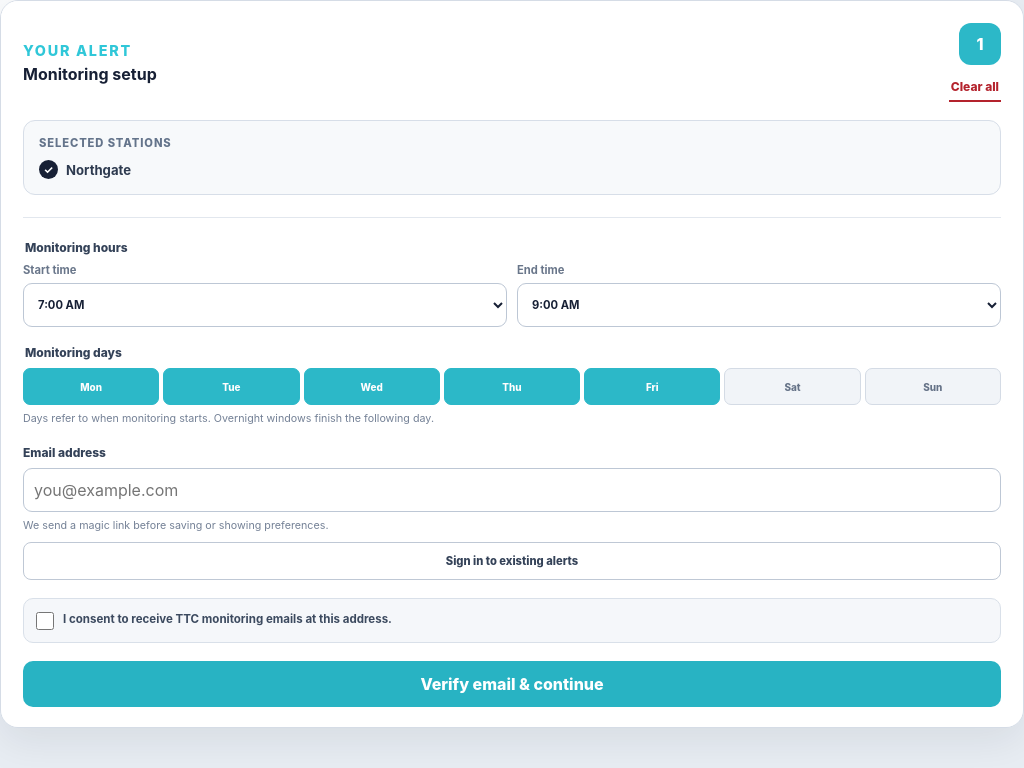
Test: secure monitoring preferences › does not reveal whether an address has an existing subscription
The image size is (1024, 768).
Type "unknown@example.com" into the field labelled "Email address" at x=512, y=490, box [23,468,1001,512]
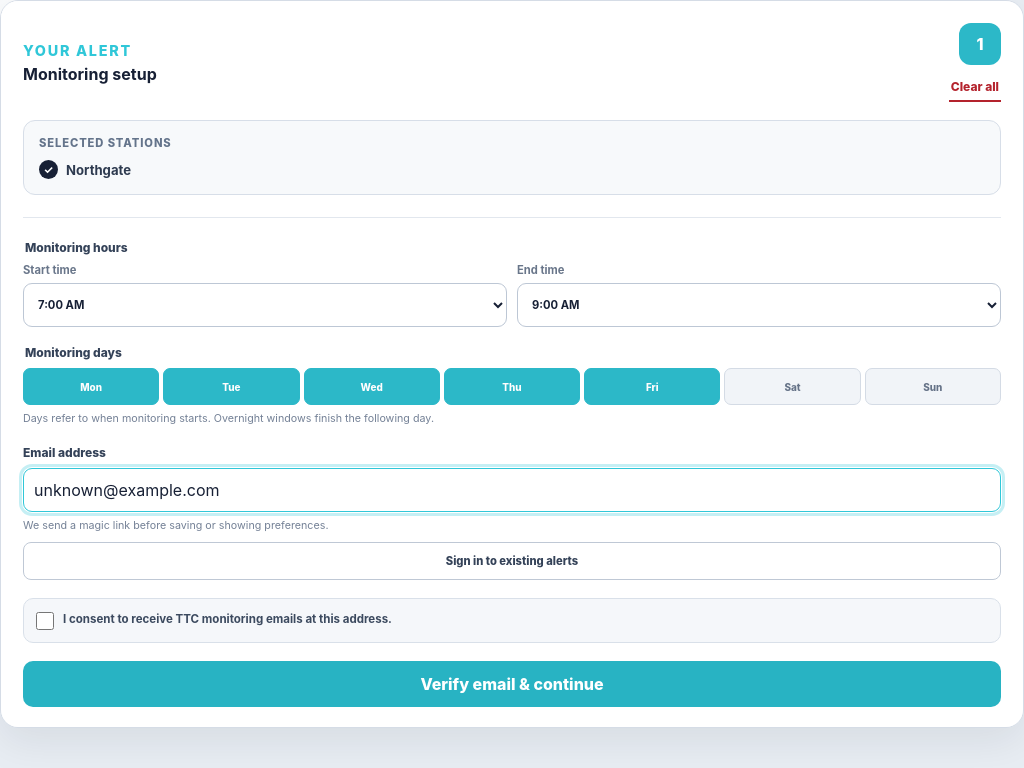
Click the button "Sign in to existing alerts" at x=512, y=561, box [23,542,1001,580]
(page scrolled)
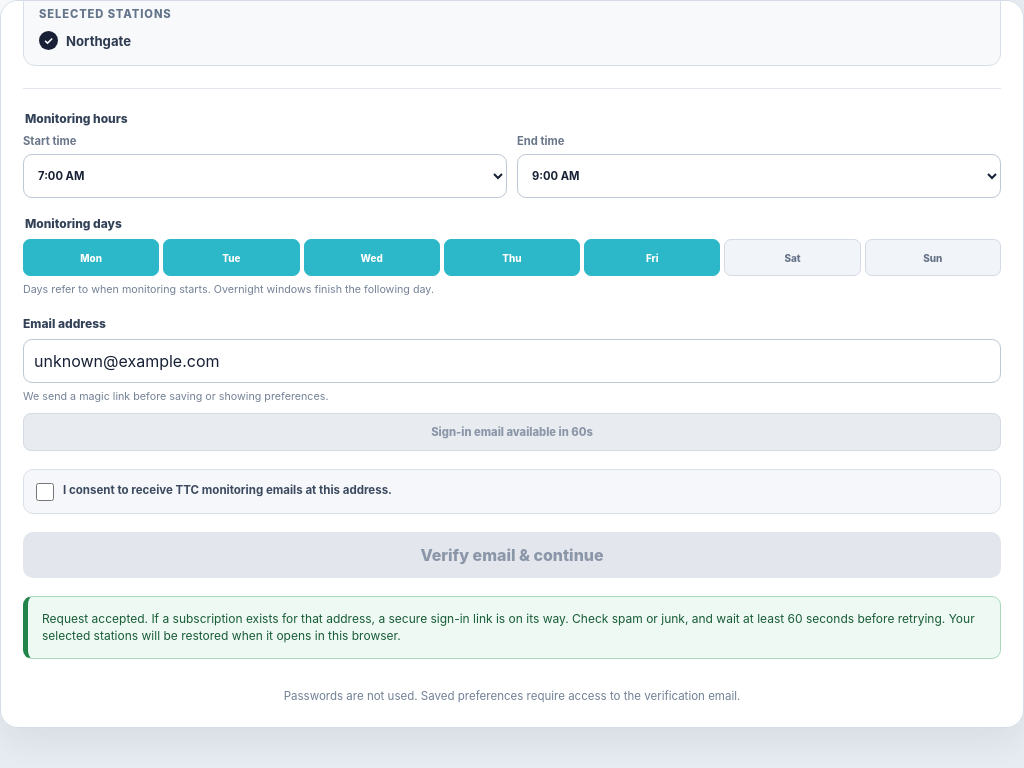
Now the message shows "If a subscription exists for that address", box [42,611,975,644]
